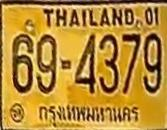3: (98, 34, 118, 92)
4: (74, 32, 95, 92)
6: (12, 33, 33, 93)
7: (121, 33, 140, 94)
9: (36, 34, 56, 94), (142, 33, 161, 92)
BKK: (33, 101, 143, 129)
